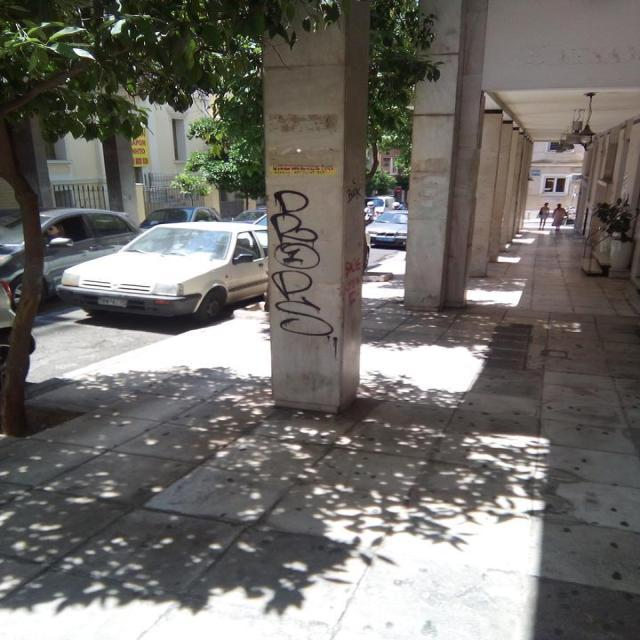nonspitting: (271, 190, 334, 336), (345, 258, 361, 304), (347, 186, 362, 203)
